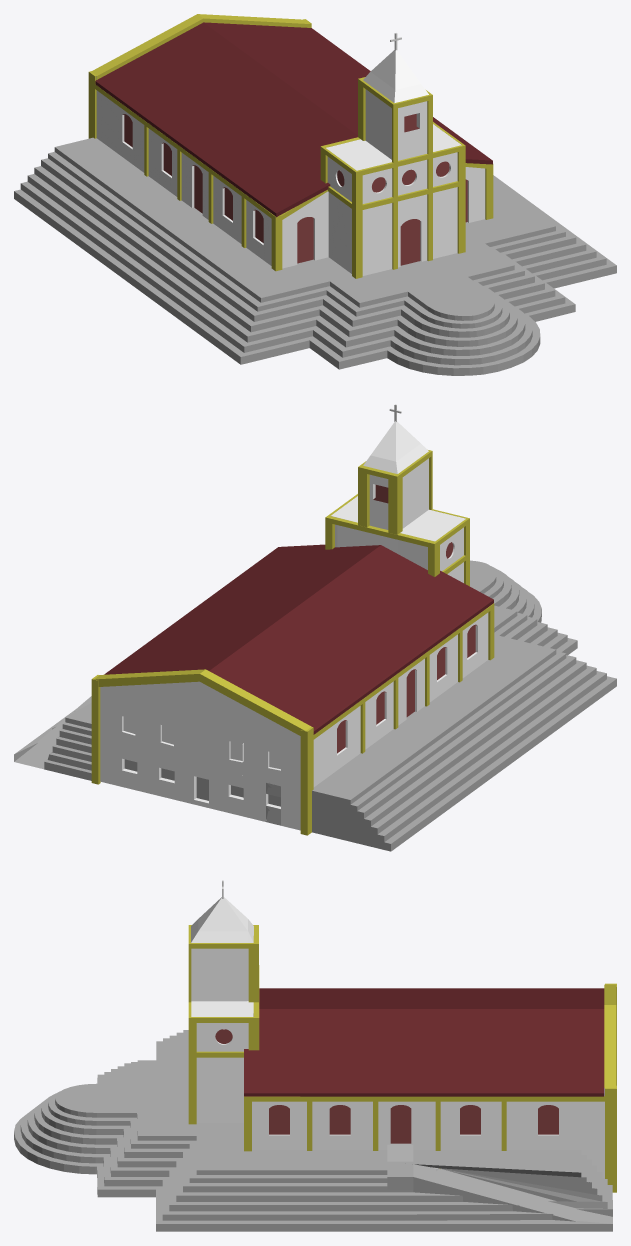
Rendered from Matriz Itatira.fbx.
The picture shows the model from 3 angles, top to bottom: view 1: azimuth 30°, elevation 25°; view 2: azimuth 150°, elevation 25°; view 3: azimuth 270°, elevation 25°; orthographic projection.
Parts seen in each view (by area): view 1: Calçada, Plane, Igreja Frente, Igreja, Plane.001, Portas; view 2: Plane, Calçada, Igreja, Plane.001, Igreja Frente, Igreja Baixo, Portas; view 3: Calçada, Plane, Igreja, Igreja Frente, Plane.001, Portas.
Part boxes in pixels (x1,y1,x2,y2): Calçada: (14,137,616,375); Plane: (95,22,492,217); Igreja Frente: (326,50,461,275); Igreja: (91,14,485,268); Plane.001: (88,19,493,278); Portas: (123,114,467,265); Plane: (104,544,493,734); Calçada: (14,560,616,851); Igreja: (94,612,488,790); Plane.001: (91,450,494,835); Igreja Frente: (331,421,465,582); Igreja Baixo: (100,742,300,830); Portas: (337,542,476,753); Calçada: (14,1030,612,1231); Plane: (244,988,604,1096); Igreja: (252,984,616,1150); Igreja Frente: (191,897,253,1123); Plane.001: (188,925,616,1192); Portas: (215,1029,558,1143).
Bounding box in the file's own units: 2490 × 1652 × 3473.
